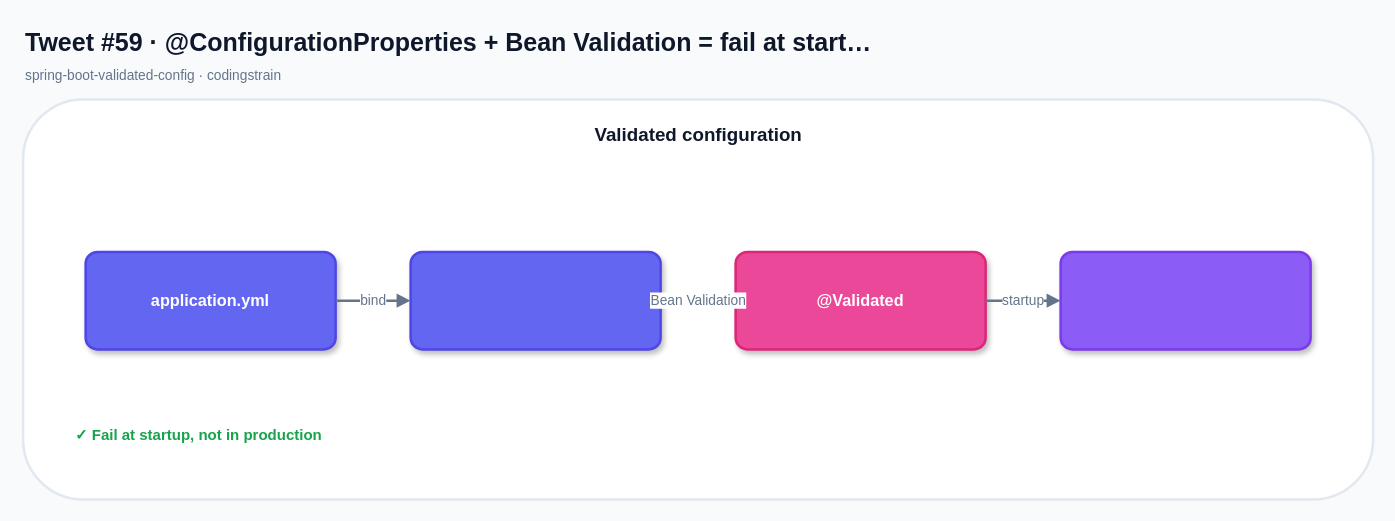
Some shapes in this 1395 by 521 pixel diagram are drawn without their labels. Here are the shapes that lost their labels. From the top down, the centre of each, then its label:
(536,302): @ConfigurationProperties
(1186,302): Spring Context
